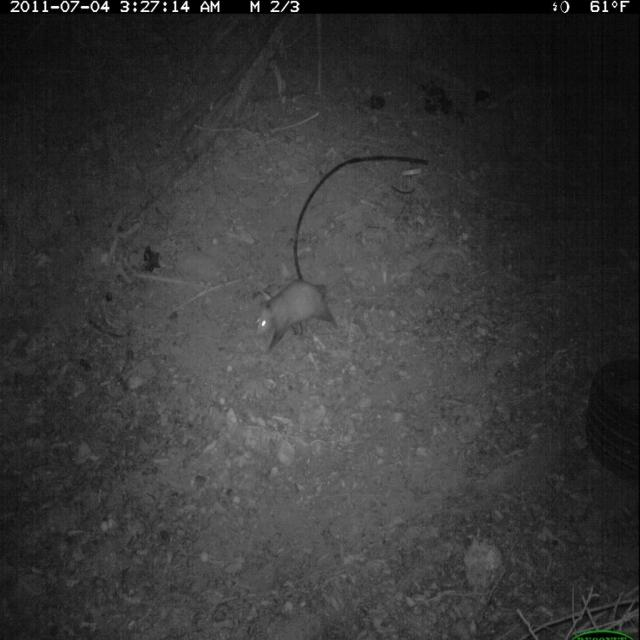opossum: (248, 276, 346, 364)
